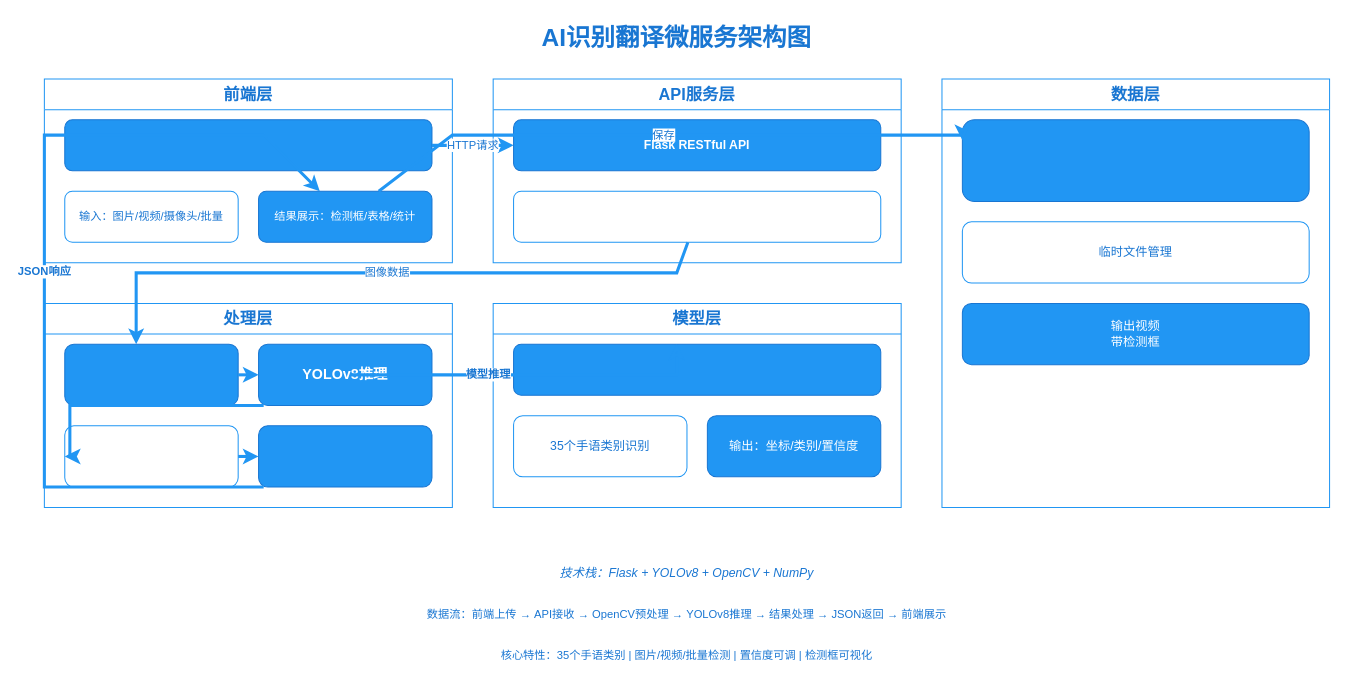
Image size: 1347x687. Some labels were removed from this diagram. The centre of each missing label's shape, as x and y in pixels:
"OpenCV预处理" belongs at (151,374).
"Vue.js 3 翻译页面" belongs at (248,145).
"YOLOv8模型 shouyushibie_0921best.pt" belongs at (697,369).
"可视化与编码" belongs at (345,456).
"接口：/detect/image | /detect/video | /detect/batch | /save/results" belongs at (697,216).
"结果处理与过滤" belongs at (151,456).
"结果存储 JSON格式" belongs at (1135,160).
